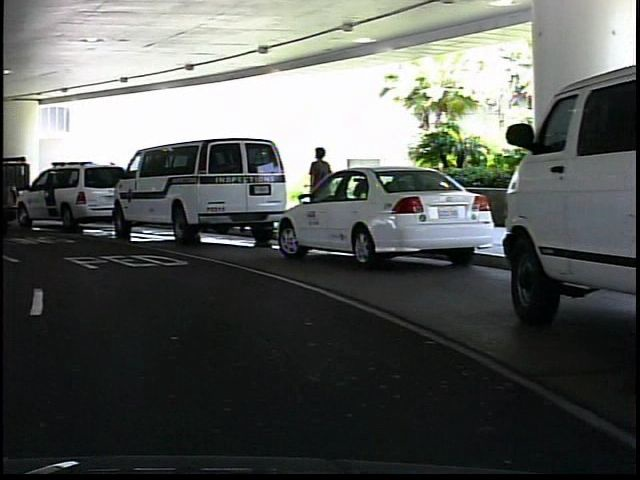person: (301, 143, 335, 232)
